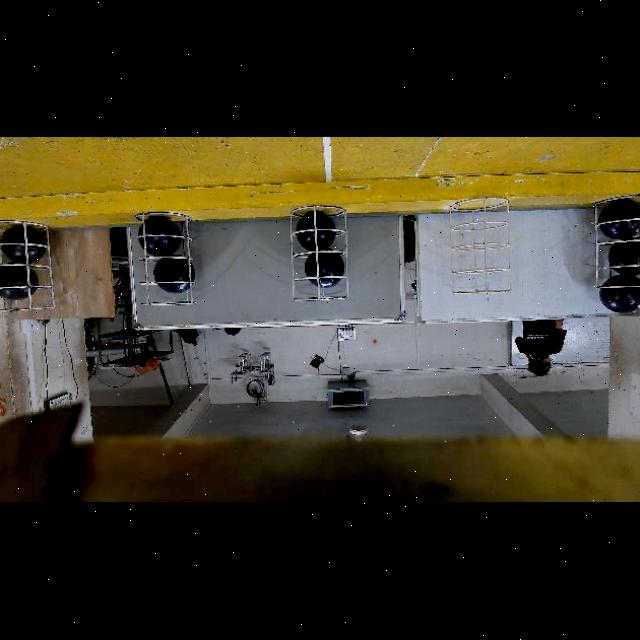P: (137, 217, 182, 257), (599, 200, 640, 240), (304, 249, 344, 290), (153, 255, 195, 294), (600, 275, 640, 315), (296, 212, 335, 251), (3, 226, 43, 264), (0, 262, 35, 300), (608, 238, 640, 277)
S: (278, 204, 354, 306), (128, 204, 194, 314), (450, 198, 510, 294), (0, 220, 50, 320), (594, 196, 640, 294)
